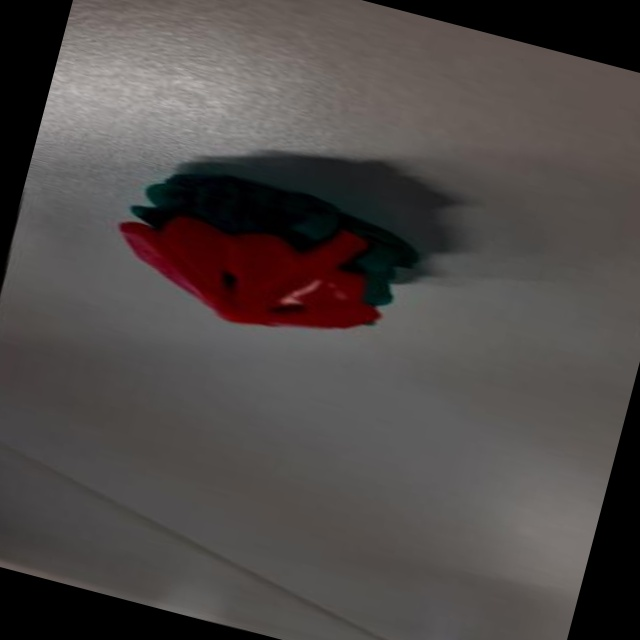House: (97, 149, 438, 370)
